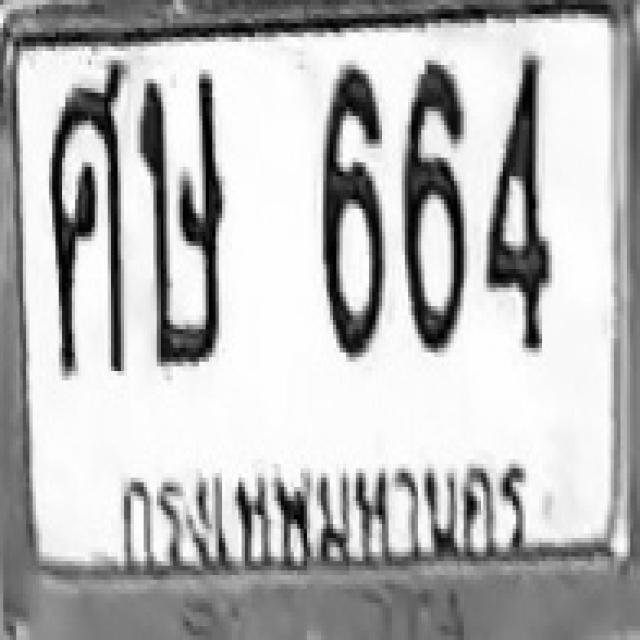4: (483, 49, 552, 350)
47SorSala: (47, 65, 126, 371)
48SorRueSi: (137, 67, 225, 369)
6: (318, 60, 384, 357), (400, 55, 465, 352)
Bangkok: (109, 443, 536, 578)
